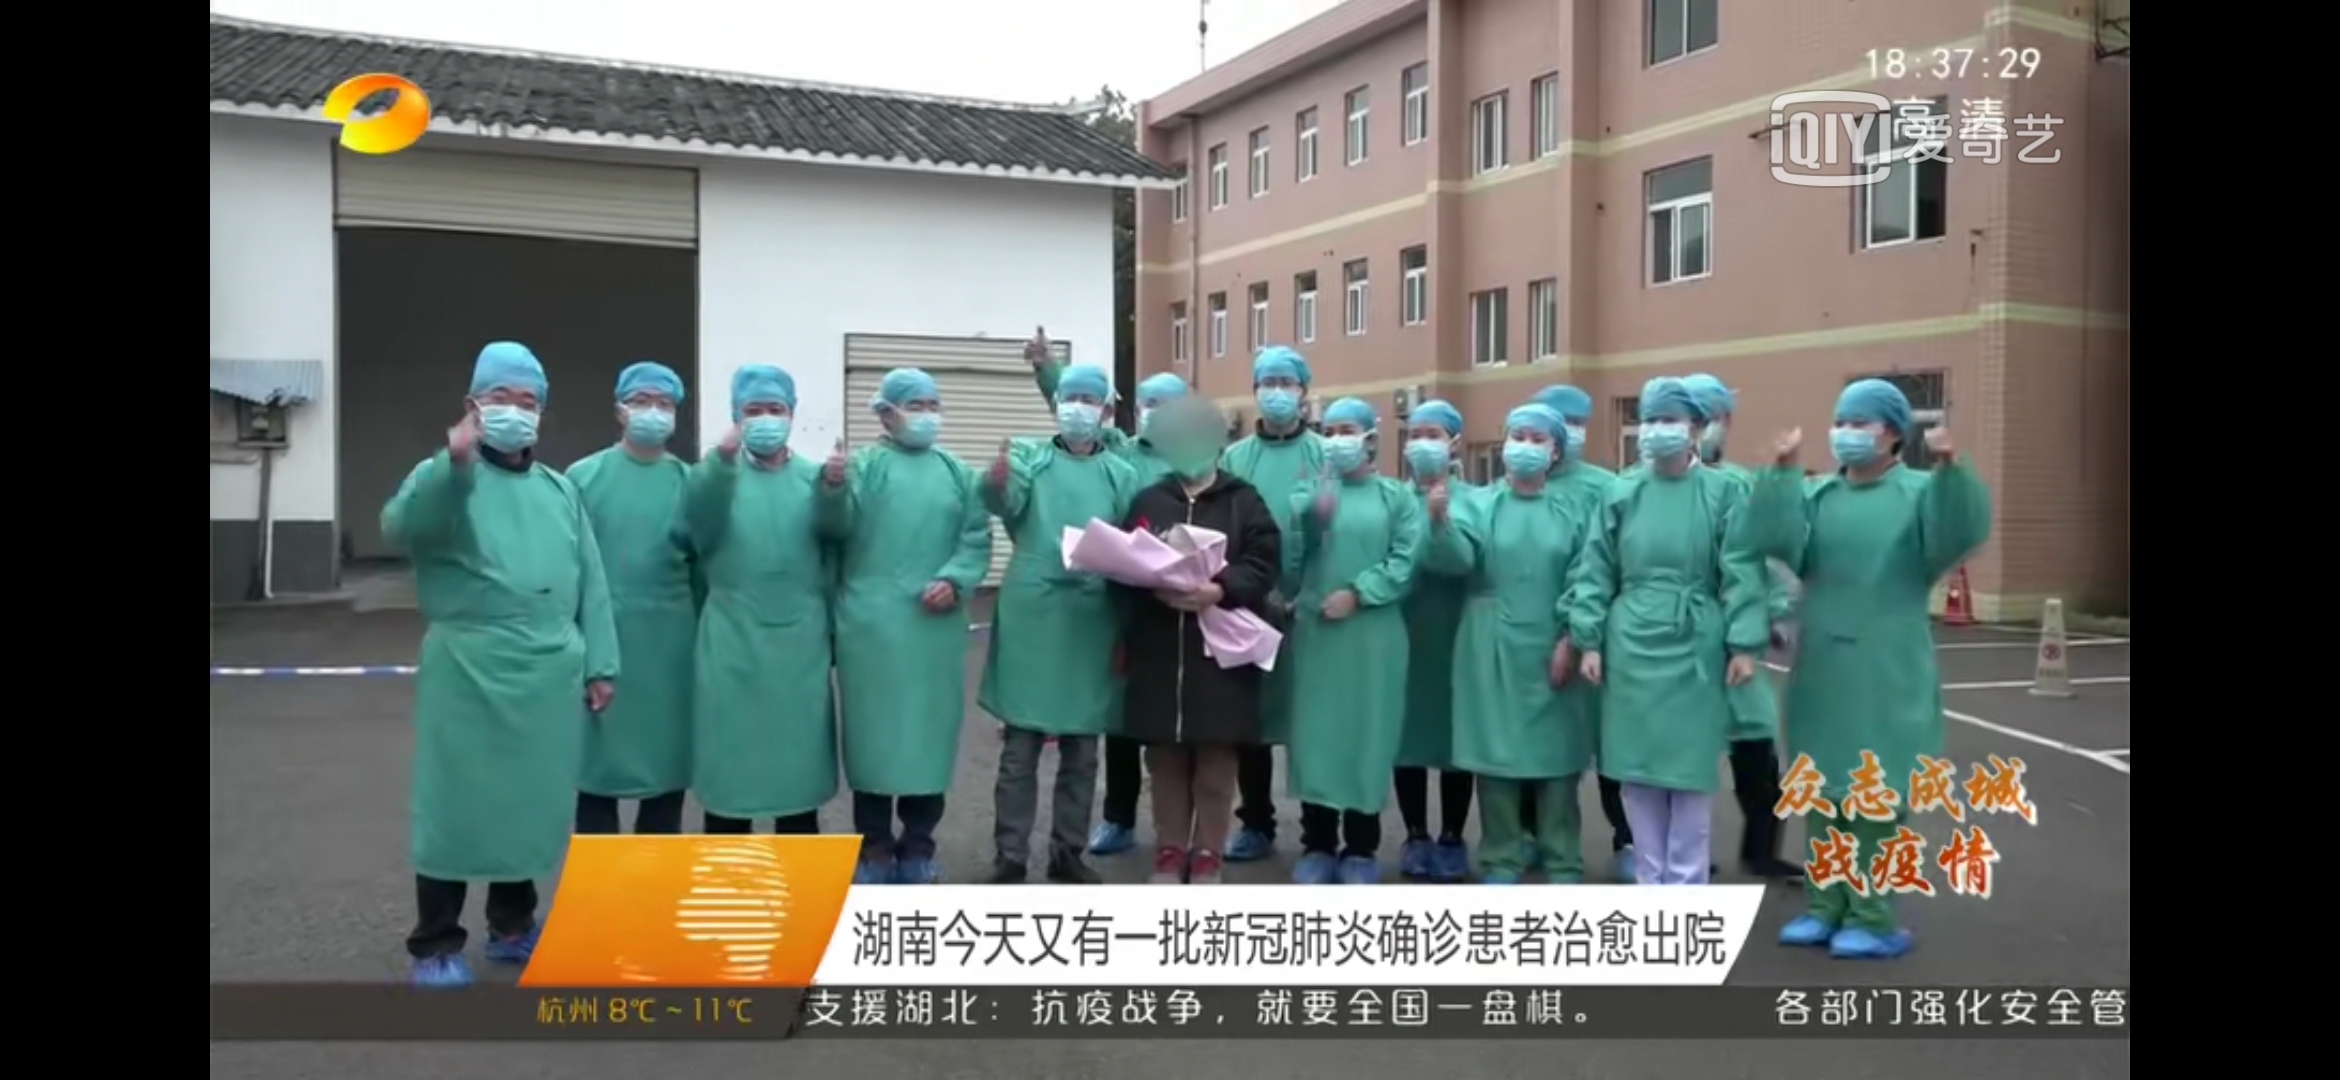correctlyWear: (467, 383, 542, 456), (1831, 410, 1895, 473), (1627, 412, 1694, 470), (877, 395, 945, 452), (736, 400, 794, 462), (616, 391, 681, 448), (1318, 419, 1374, 479), (1501, 421, 1557, 479), (1406, 422, 1462, 477), (1055, 392, 1113, 445), (1255, 376, 1307, 433), (1137, 395, 1186, 439), (1692, 410, 1730, 458), (1565, 412, 1589, 455)
